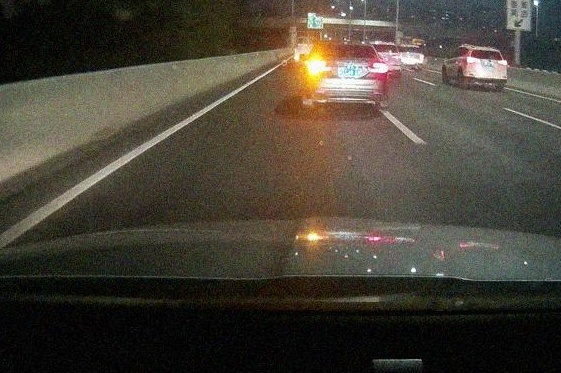L_light: (307, 61, 326, 73), (466, 57, 476, 63)
R_light: (368, 62, 387, 73), (498, 60, 507, 65)
T_light: (338, 44, 353, 47), (481, 49, 490, 52)
night-left: (301, 43, 389, 110)
night-no: (464, 46, 508, 90)
